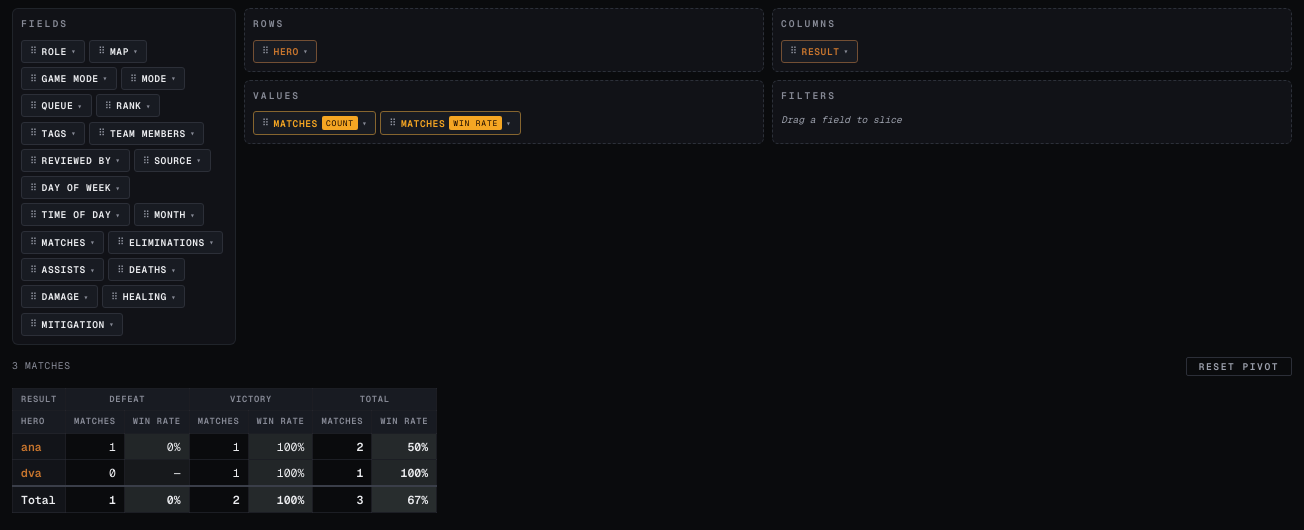
Scenario: PivotTable — value shelf › re-folds the crosstab when a value spec changes aggregation
The image size is (1304, 530).
Click the button "⠿ Matches Count ▾". click: (315, 123)
box: [253, 111, 376, 135]
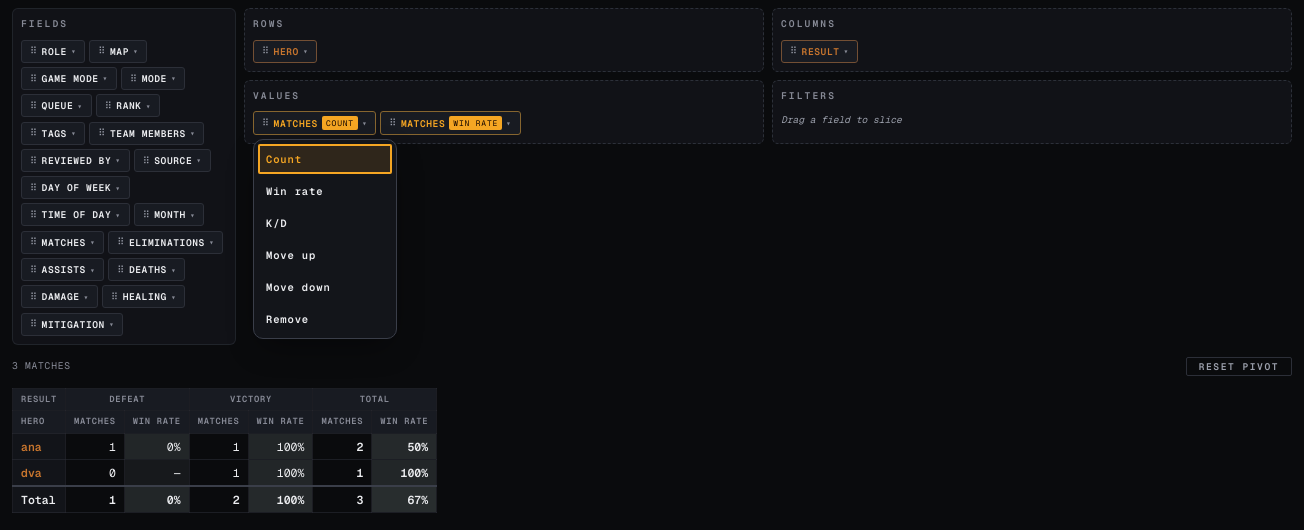
Click the menu item "K/D". click: (325, 223)
box: [258, 208, 392, 238]
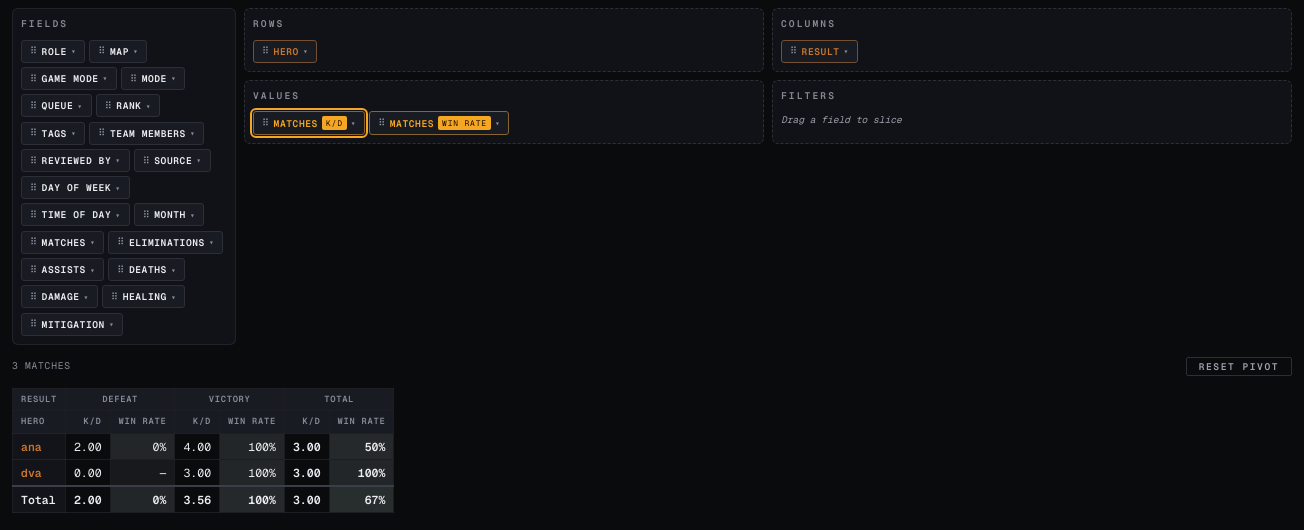
Result: the button "⠿ Matches K/D ▾" is shown at [253, 111, 365, 135]
Result: the cells read "2.00", "0%", "4.00", "100%", "3.00", "50%", in this order at [65, 433, 110, 459]; [110, 433, 175, 459]; [175, 433, 220, 459]; [220, 433, 284, 459]; [284, 433, 329, 459]; [329, 433, 394, 459]
